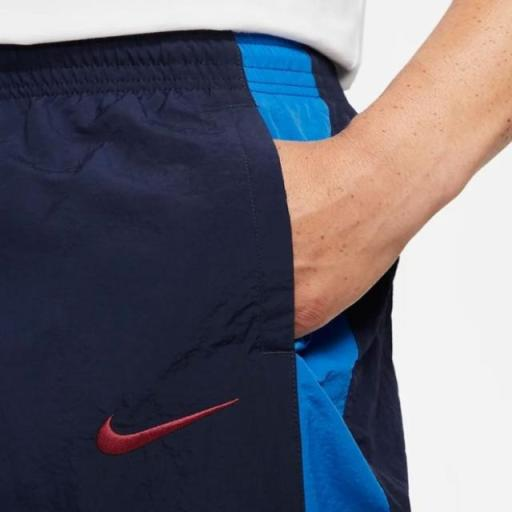Nike: (86, 393, 250, 456)
